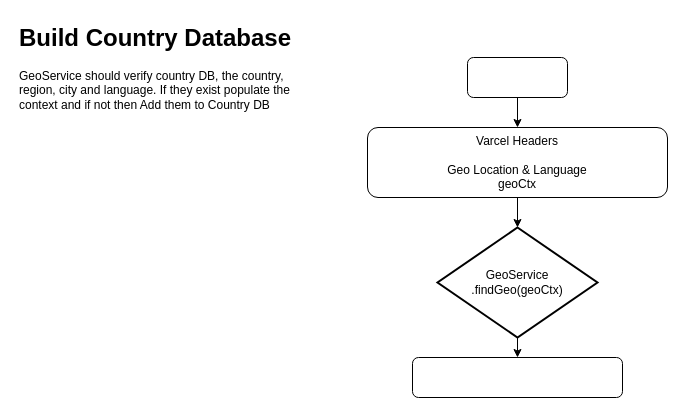
Image size: 685x415. Some labels were removed from this diagram. The shapes that lost their labels are listed below. From the top down, each one's box as (x1, y1, x2, y2) in pixels, then its label:
(466, 56, 568, 98): Request
(412, 356, 622, 398): GeoService.addGeo()
